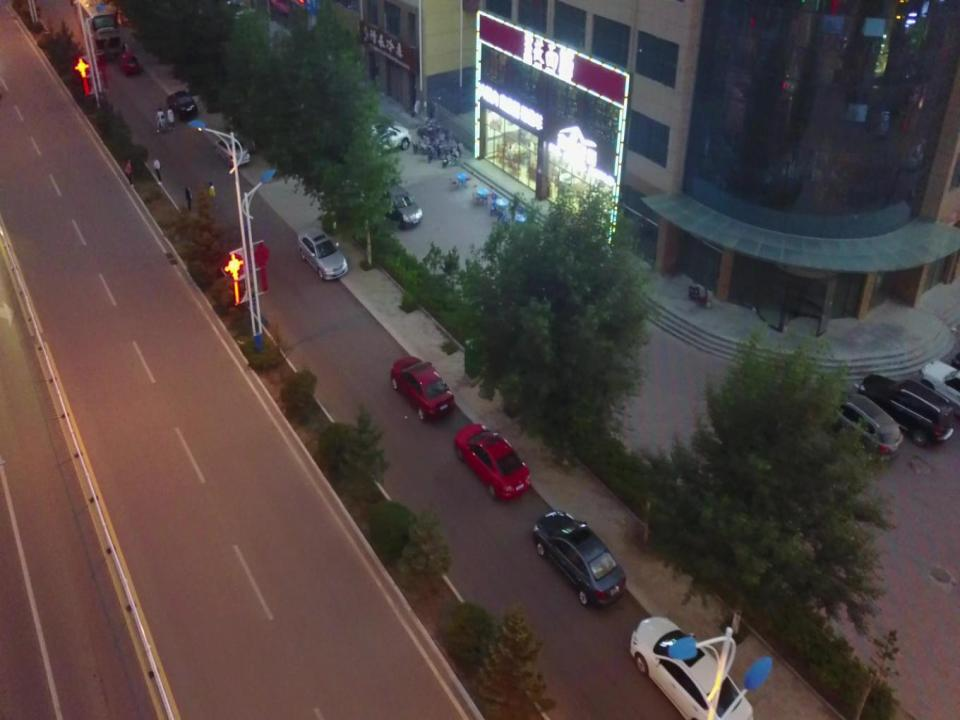bus: (70, 0, 120, 61)
car: (629, 615, 753, 720), (532, 509, 626, 607), (858, 373, 954, 447), (816, 392, 903, 464), (453, 424, 530, 501), (390, 356, 454, 420), (297, 227, 348, 279), (372, 180, 423, 229), (917, 360, 960, 416), (359, 122, 411, 158), (214, 134, 250, 166), (166, 88, 198, 122), (117, 51, 141, 76)
